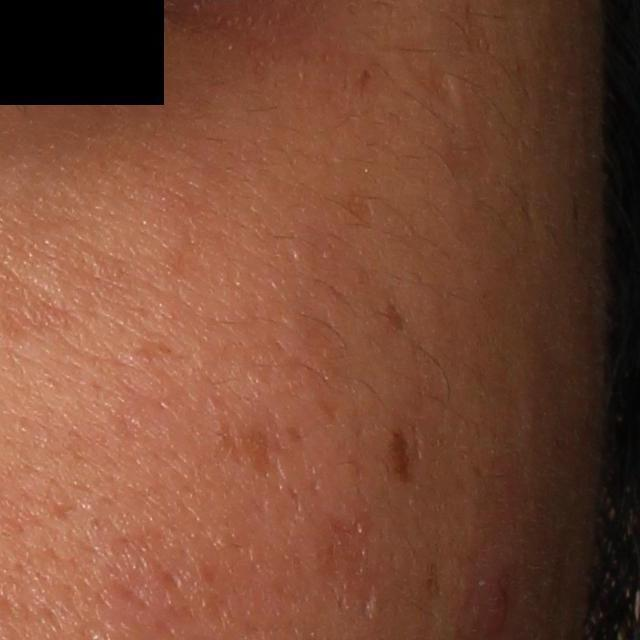melasma: (213, 417, 276, 477), (383, 296, 410, 334)
